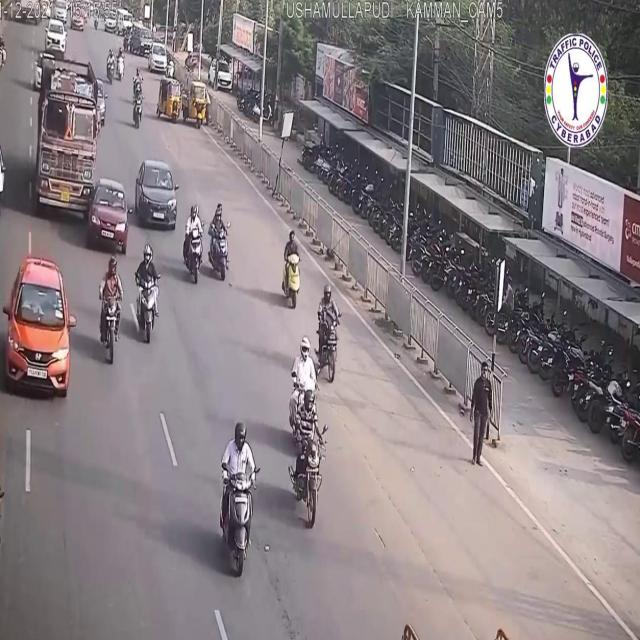accident: (33, 47, 131, 261)
non_accident: (284, 329, 329, 543), (125, 22, 177, 76)
